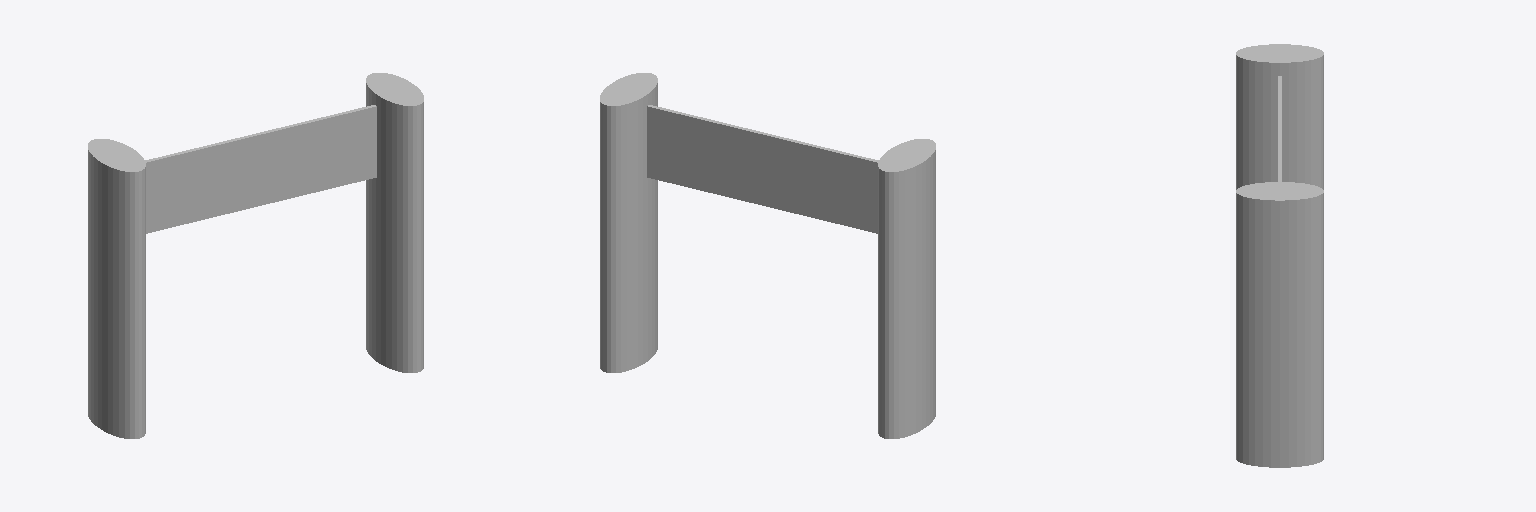
The model's file is basic_finish.obj.
3 views of the same model, side by side, from view 1: azimuth 30°, elevation 25°; view 2: azimuth 150°, elevation 25°; view 3: azimuth 270°, elevation 25° (orthographic).
Visible parts, largest first — view 1: Cube.001_Cube.003, Cylinder.002, Cylinder.003; view 2: Cube.001_Cube.003, Cylinder.002, Cylinder.003; view 3: Cylinder.003, Cylinder.002.
Part boxes in pixels (left/top/right/bottom): Cube.001_Cube.003: left=145, top=105, right=376, bottom=233; Cylinder.002: left=88, top=139, right=145, bottom=438; Cylinder.003: left=366, top=73, right=423, bottom=372; Cube.001_Cube.003: left=647, top=105, right=878, bottom=233; Cylinder.002: left=878, top=139, right=935, bottom=438; Cylinder.003: left=600, top=73, right=657, bottom=372; Cylinder.003: left=1236, top=182, right=1323, bottom=467; Cylinder.002: left=1236, top=44, right=1323, bottom=189.
Bounding box in the file's own units: 4.96 × 4.03 × 1.2.